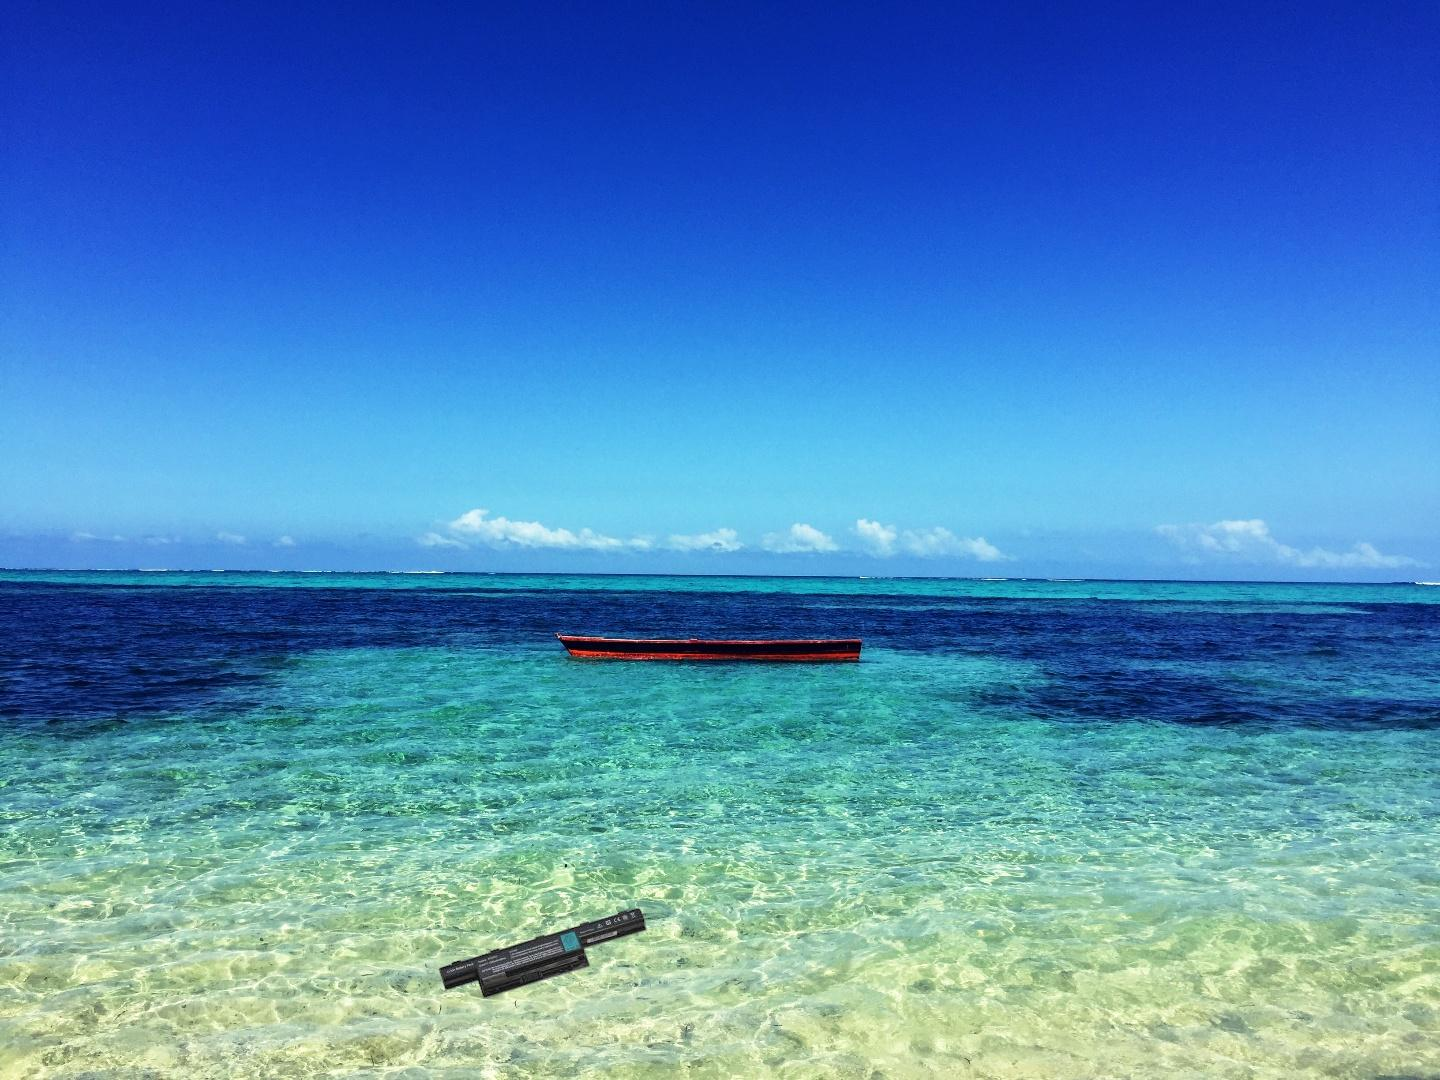battery: (437, 905, 649, 1001)
